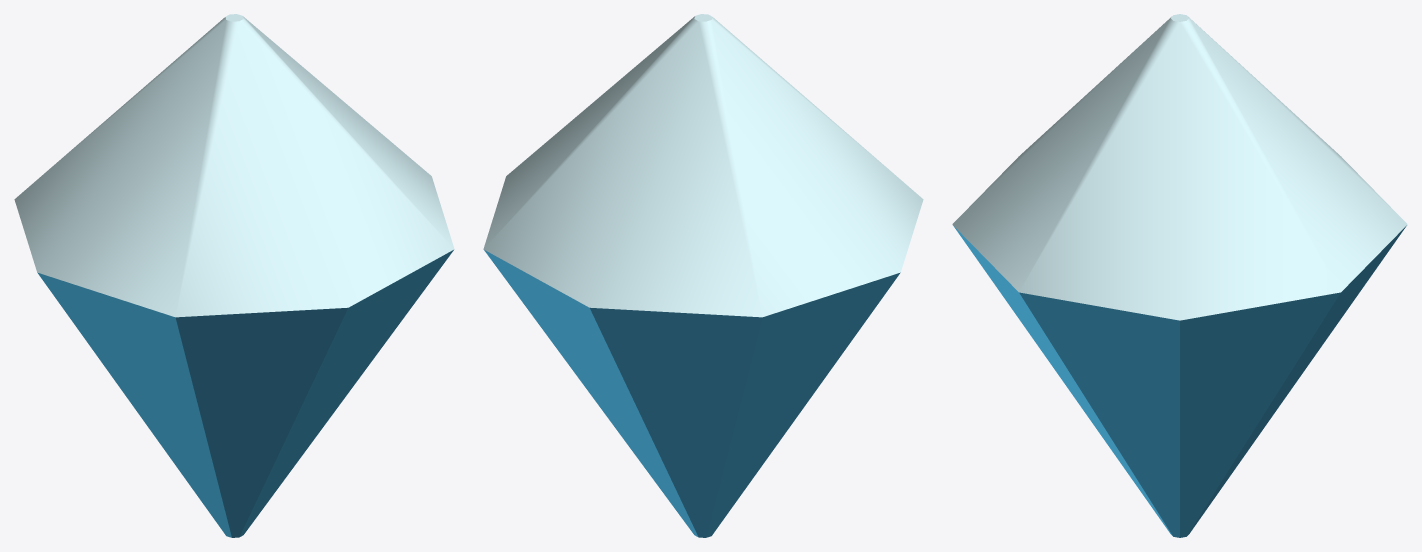
The model's file is LandGem.fbx.
3 renders of one model, left to right at view 1: azimuth 30°, elevation 25°; view 2: azimuth 150°, elevation 25°; view 3: azimuth 270°, elevation 25°, orthographic.
Visible parts, largest first — view 1: LandGem; view 2: LandGem; view 3: LandGem.
Part boxes in pixels (x1,y1,x2,y2): LandGem: (14, 14, 454, 537); LandGem: (483, 14, 923, 537); LandGem: (952, 14, 1407, 537).
Bounding box in the file's own units: 120 × 150 × 120.
